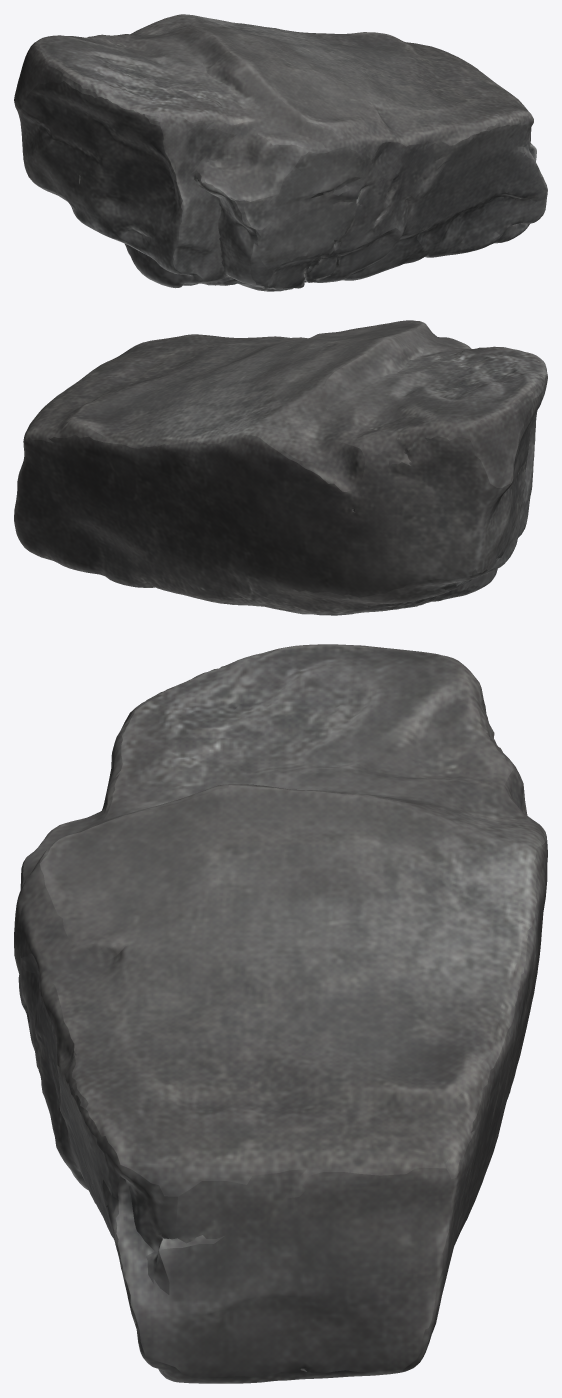
3 views of the same model, one above another, from view 1: azimuth 30°, elevation 25°; view 2: azimuth 150°, elevation 25°; view 3: azimuth 270°, elevation 25° (orthographic). The views are drawn at different scales.
Visible parts, largest first — view 1: world; view 2: world; view 3: world.
Boxes of the visible parts, bbox=[...] form: world: bbox=[14, 14, 547, 291]; world: bbox=[14, 320, 547, 615]; world: bbox=[14, 644, 547, 1383].
Size of the model in its own units: 2.5 by 1.26 by 1.52.
Materials: 1 (1 with a texture image).
